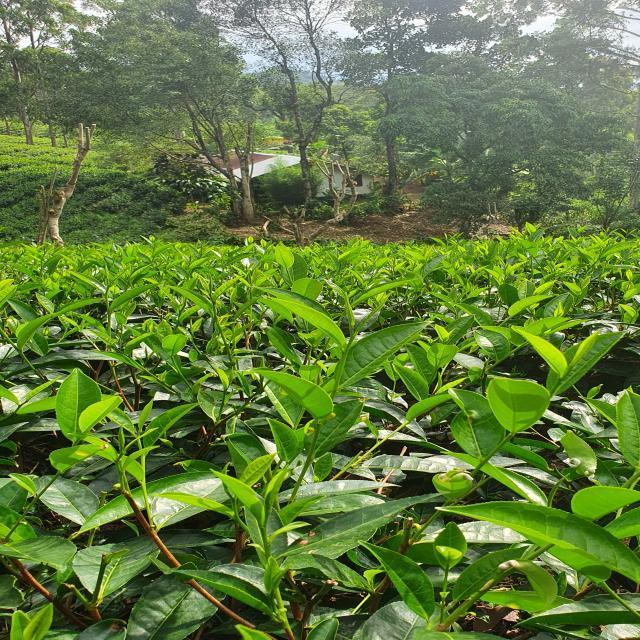Stem: (233, 515, 240, 521), (262, 527, 267, 535), (136, 435, 140, 441), (558, 377, 562, 383), (351, 333, 355, 338), (105, 292, 108, 296)
